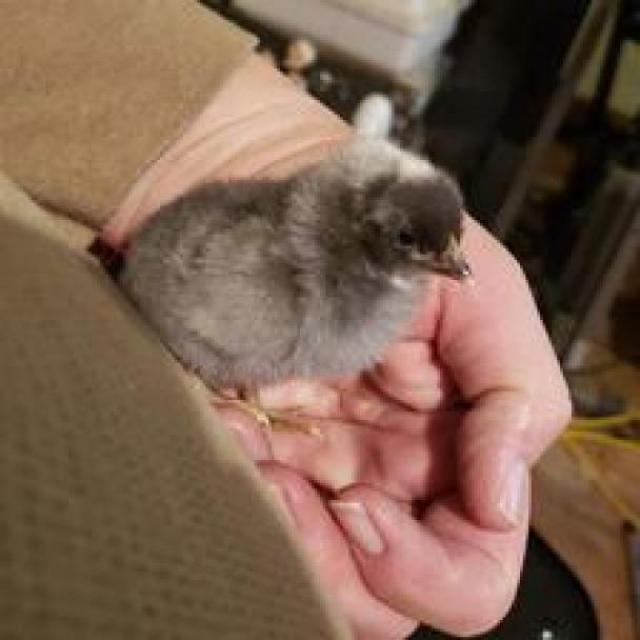Chicken: (76, 113, 531, 447)
